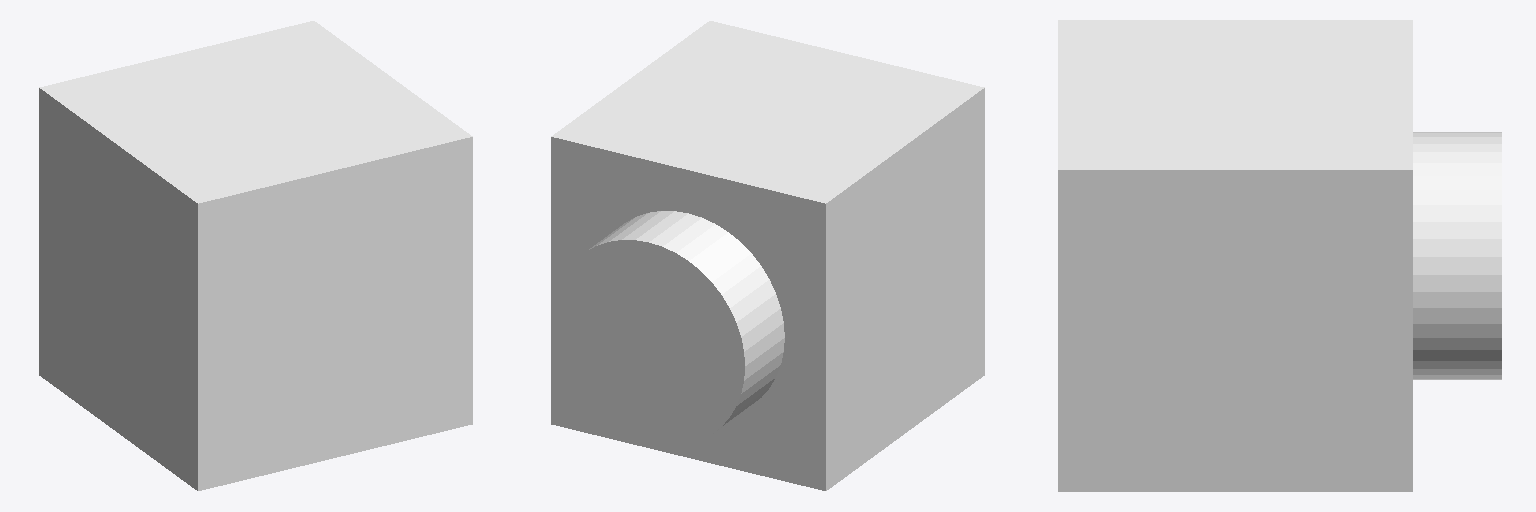
URDF robot description (Circle_cube_cap_preprocessed):
<?xml version="1.0" ?>
<robot name="Circle_cube_cap_preprocessed">
  <link name="baseLink">
    <contact>
    	<friction_anchor/>
    	   <lateral_friction value="1.0"/>
    </contact>
    <inertial>
      <origin rpy="0 0 0" xyz="0 0 0"/>
       <!-- mass controls penetration -->
       <mass value=".5"/>
       <inertia ixx="1e-4" ixy="0" ixz="0" iyy="1e-4" iyz="0" izz="1e-4"/>
    </inertial>
    <visual>
      <origin rpy="0 0 0" xyz="0 0 0"/>
      <geometry>
        <mesh filename="Circle_cube_cap_preprocessed.obj"/>
      </geometry>
       <material name="white">
        <color rgba="1 1 1 1"/>
      </material>
    </visual>
    <collision>
      <origin rpy="0 0 0" xyz="0 0 0"/>
      <geometry>
        <mesh filename="Circle_cube_cap_preprocessed.obj"/>
      </geometry>
    </collision>
  </link>
</robot>

--- What the picture shows (computed from the rendered views, not written in the file) ---
The picture shows the robot from 3 angles, left to right: view 1: azimuth 30°, elevation 25°; view 2: azimuth 150°, elevation 25°; view 3: azimuth 270°, elevation 25°; orthographic projection.
Robot: Circle_cube_cap_preprocessed — 1 links, 0 joints (none); root link baseLink; default pose: every joint at zero.
Links seen in each view (by area): view 1: baseLink; view 2: baseLink; view 3: baseLink.
Boxes of the visible links, x1,y1,x2,y2 form: baseLink: (39, 21, 472, 490); baseLink: (551, 21, 984, 490); baseLink: (1058, 20, 1501, 491).
Bounding box of the posed robot: 0.08 × 0.1 × 0.08 m (x, y, z).
1 mesh visuals loaded from 1 distinct referenced files (1 OBJ).